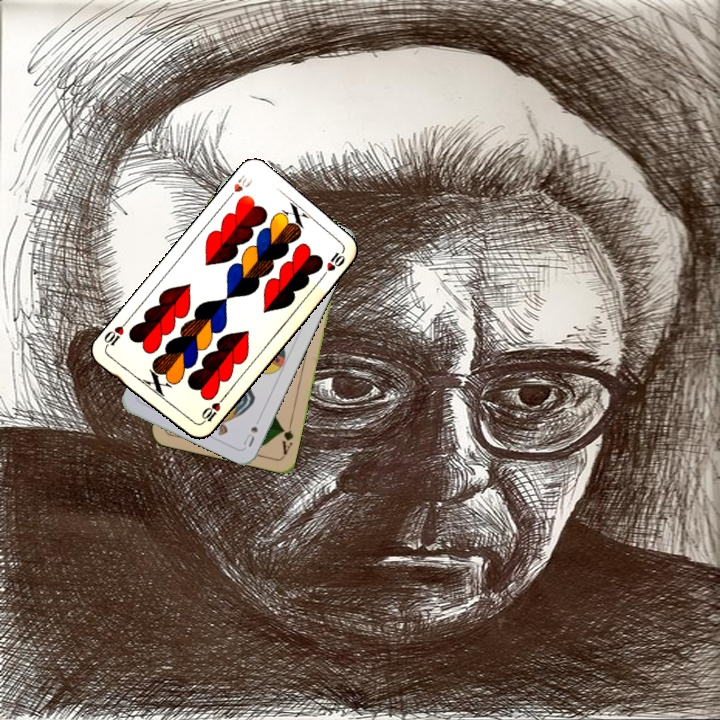GA: (278, 418, 296, 458)
H10: (222, 171, 255, 204), (196, 394, 227, 428)
SU: (239, 422, 261, 449)
